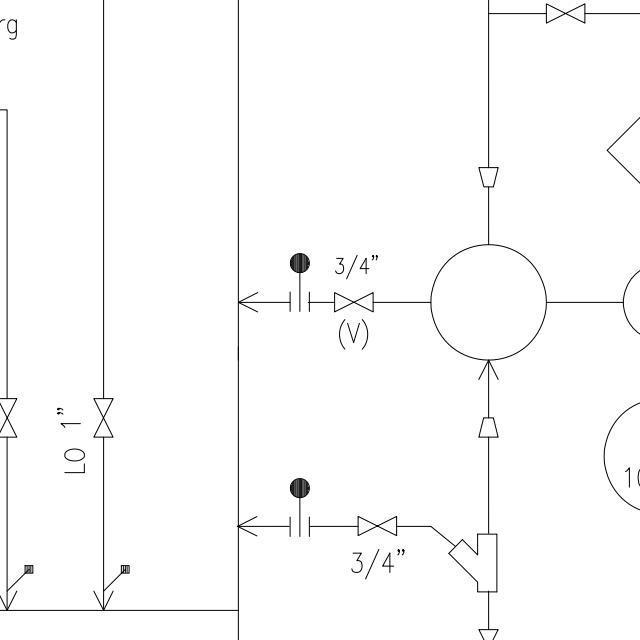GV: (328, 285, 383, 315), (91, 392, 118, 447), (351, 516, 402, 543), (541, 0, 591, 26), (0, 392, 19, 446)
SP: (473, 160, 503, 193), (476, 411, 501, 445)
